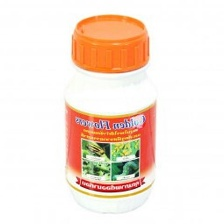insecticide: (59, 9, 161, 218)
